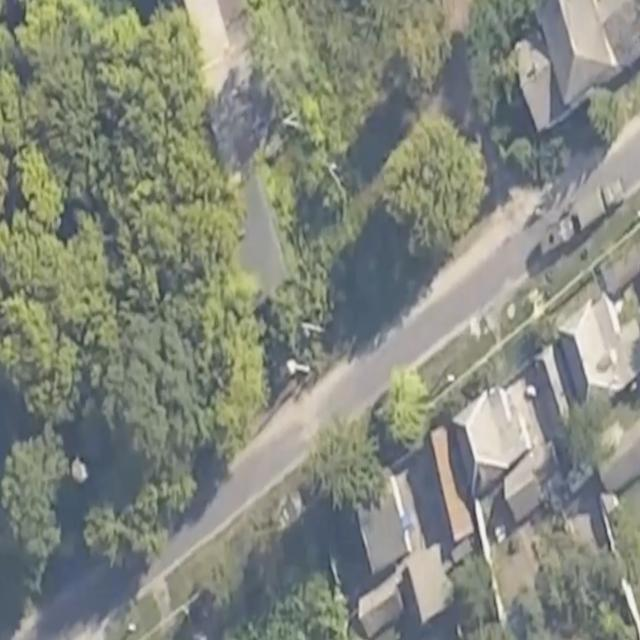vehicle: (263, 281, 321, 389), (542, 180, 626, 253)
